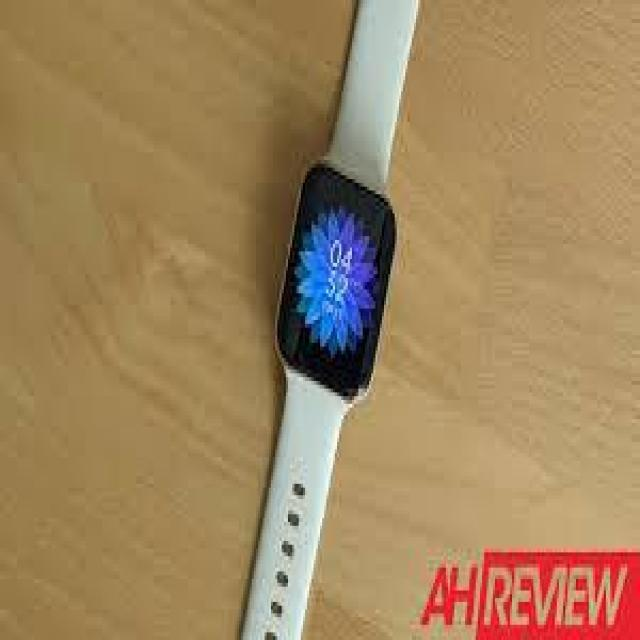watch: (233, 43, 419, 603), (238, 52, 419, 606)
